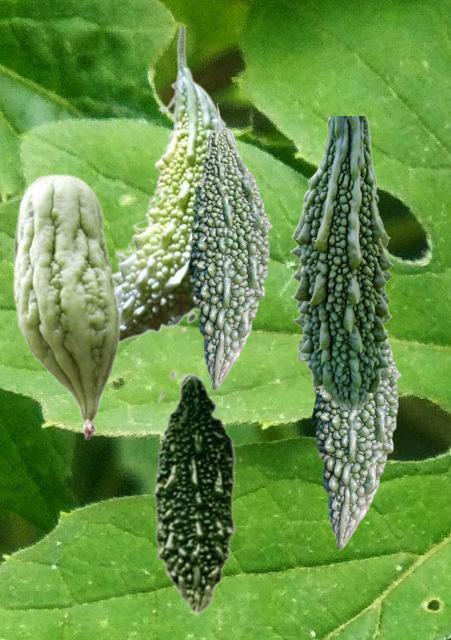ampalaya: (113, 26, 239, 343), (289, 116, 392, 408), (12, 173, 120, 439), (188, 103, 271, 389), (153, 369, 241, 616), (311, 339, 400, 549)
